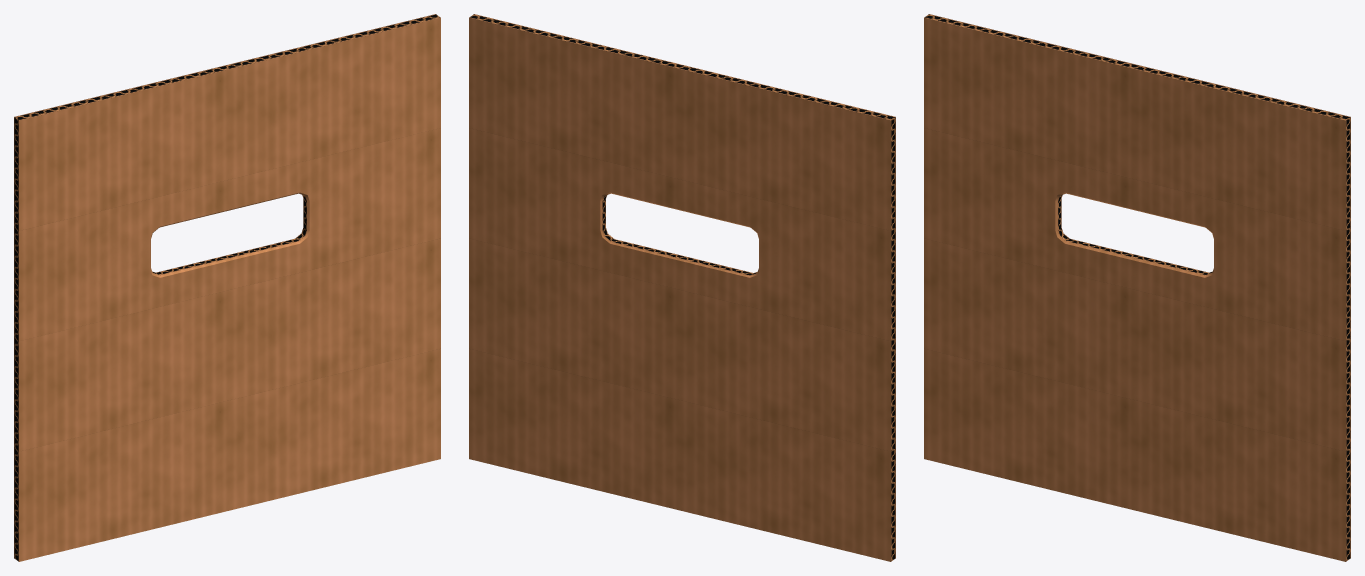
Rendered from M_Cardboard_Handle.fbx.
The picture shows the model from 3 angles, left to right: view 1: azimuth 30°, elevation 25°; view 2: azimuth 150°, elevation 25°; view 3: azimuth 330°, elevation 25°; orthographic projection.
Visible parts, largest first — view 1: Panel_Front (×3), Panel_Front_Handle, Edge_Top, Edge_Left (×4), Edge_Handle; view 2: Panel_Back (×3), Panel_Front_Handle1, Edge_Top, Edge_Left (×4), Edge_Handle; view 3: Panel_Front (×3), Panel_Front_Handle, Edge_Top, Edge_Right (×4), Edge_Handle.
Boxes of the visible parts, left/top/right/bottom form: Panel_Front (×3): left=19, top=17, right=440, bottom=561; Panel_Front_Handle: left=19, top=128, right=440, bottom=341; Edge_Top: left=14, top=14, right=440, bottom=120; Edge_Left (×4): left=14, top=117, right=18, bottom=561; Edge_Handle: left=152, top=195, right=306, bottom=275; Panel_Back (×3): left=469, top=17, right=890, bottom=561; Panel_Front_Handle1: left=469, top=128, right=890, bottom=341; Edge_Top: left=469, top=14, right=895, bottom=120; Edge_Left (×4): left=891, top=117, right=895, bottom=561; Edge_Handle: left=602, top=195, right=757, bottom=275; Panel_Front (×3): left=924, top=17, right=1345, bottom=561; Panel_Front_Handle: left=924, top=128, right=1345, bottom=341; Edge_Top: left=924, top=14, right=1350, bottom=120; Edge_Right (×4): left=1346, top=117, right=1350, bottom=561; Edge_Handle: left=1058, top=195, right=1212, bottom=275.
Size of the model in its own units: 12 by 12 by 0.25.
